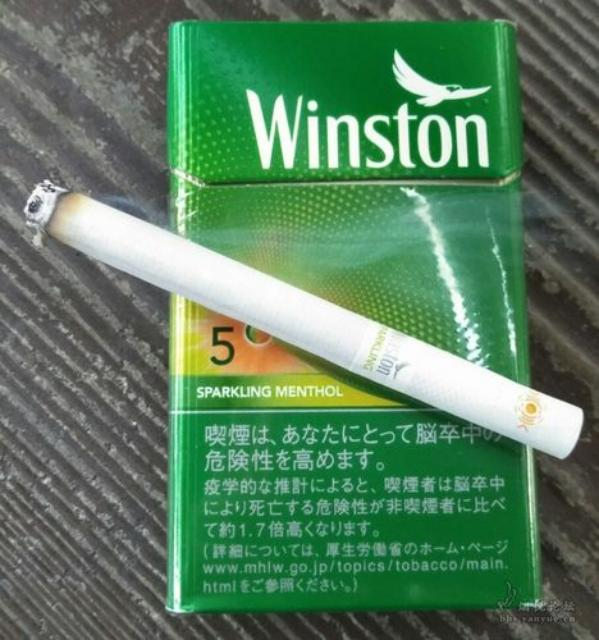Cigarette: (22, 178, 586, 460)
